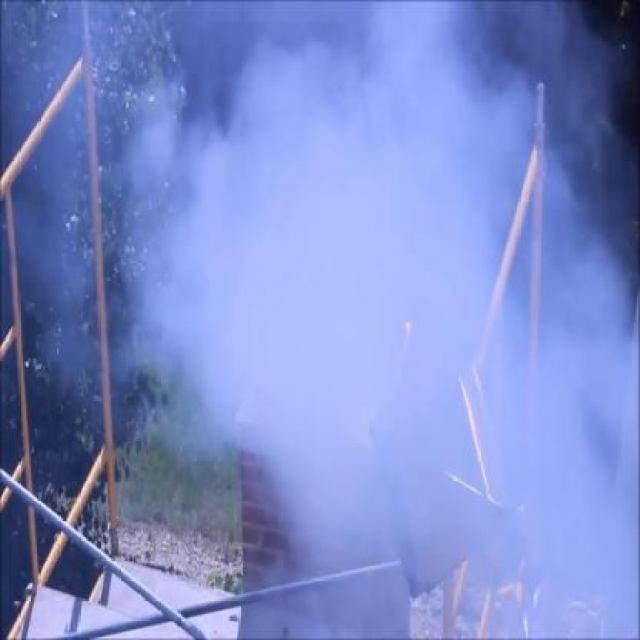smoke: (150, 50, 426, 472), (443, 189, 632, 606), (450, 32, 588, 154)
